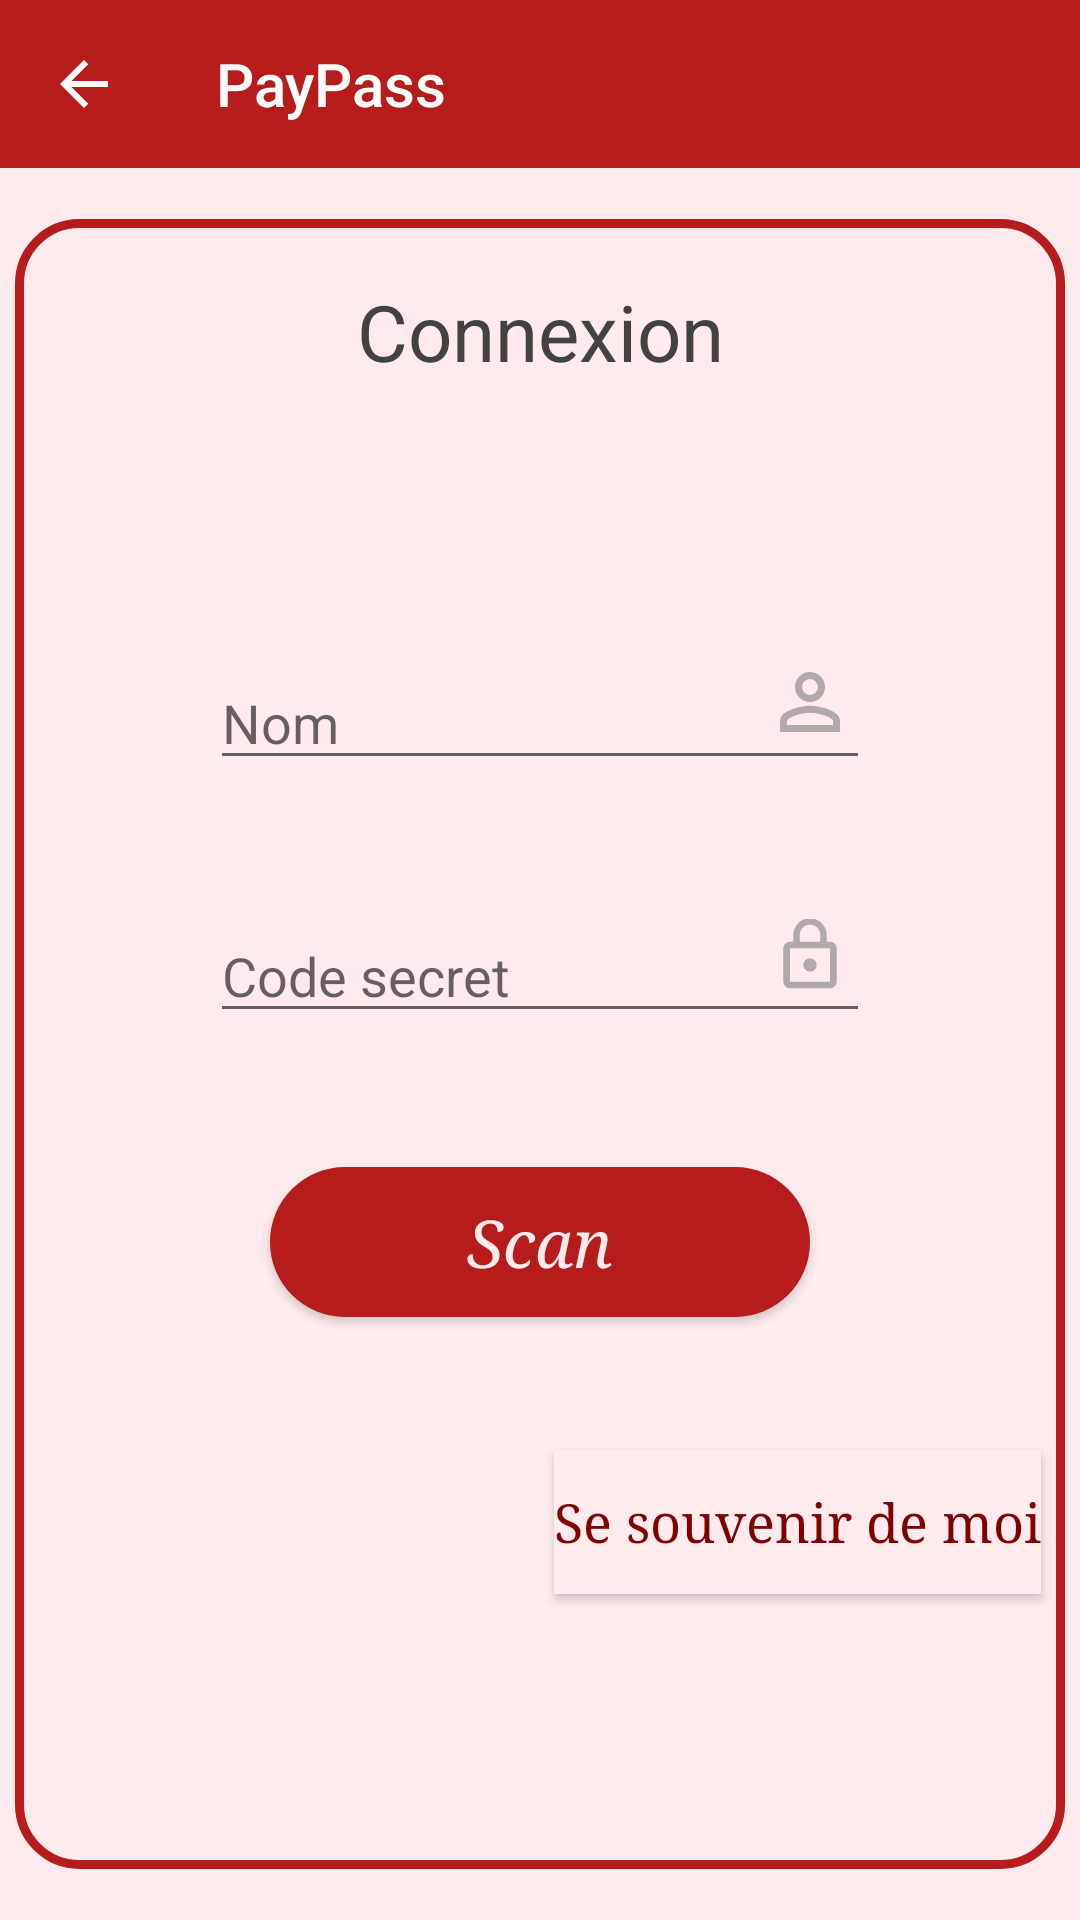

Named icons in this screenshot (1080 × 1920) and their bounding boxes, [left=x1, top=y1, right=x2, bottom=y2]:
lock: [left=783, top=919, right=837, bottom=988]
